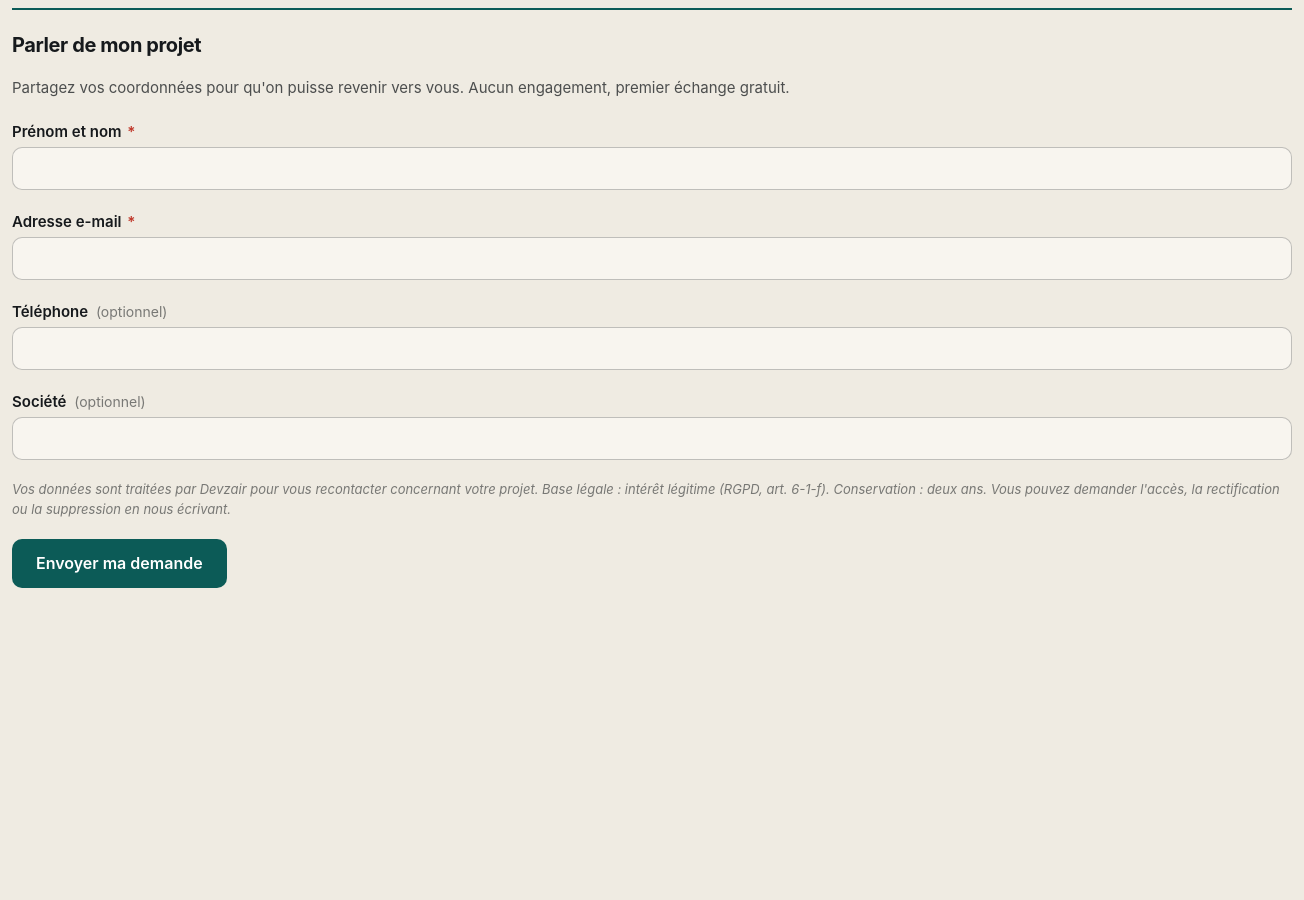
Test case: EstimatorLeadForm — validation › affiche une erreur si nom vide au submit
The image size is (1304, 900).
Type "jean@example.com" into the field named "email" at (652, 259), box x1=12 y1=237 x2=1292 y2=280
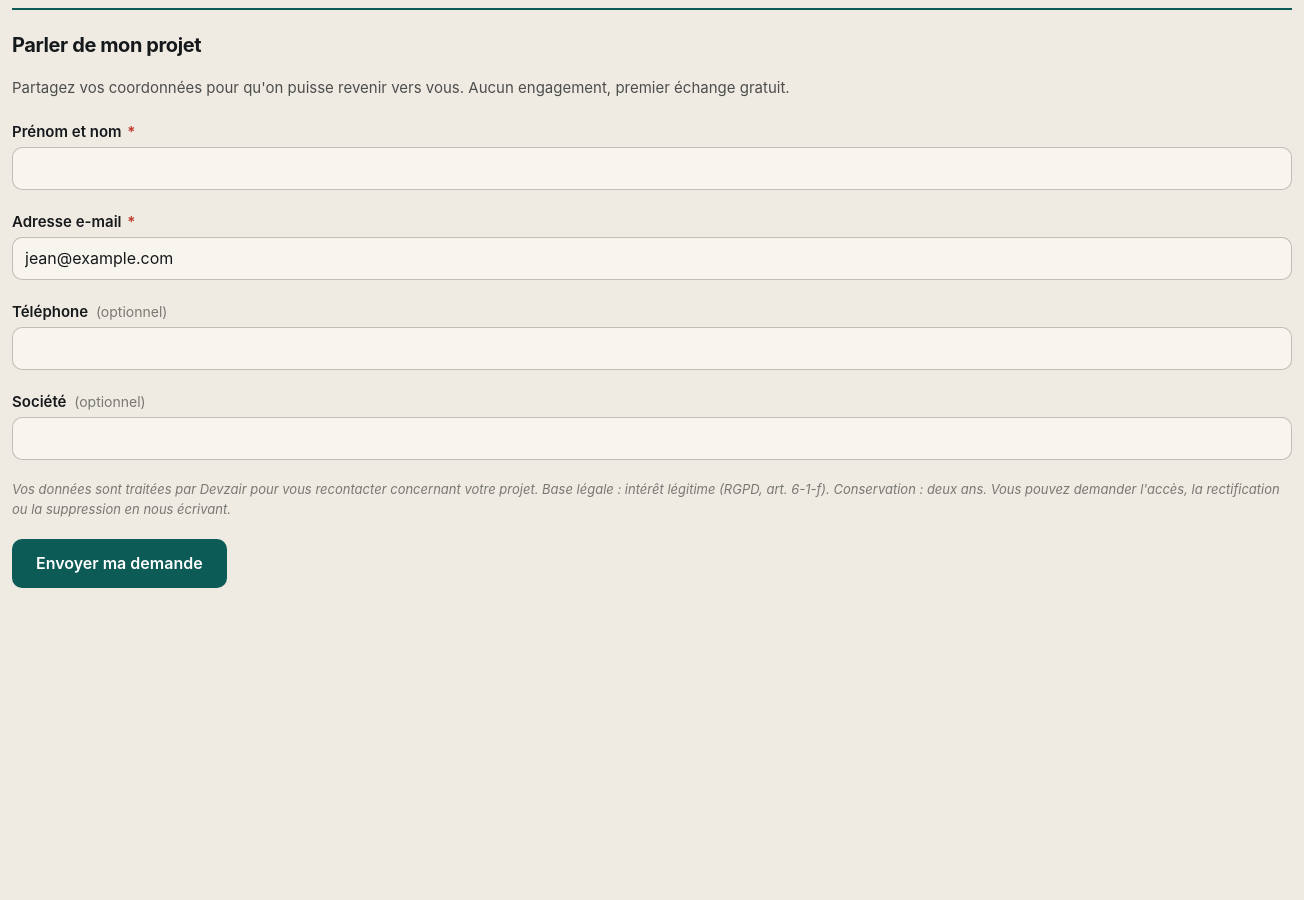
Submit the form
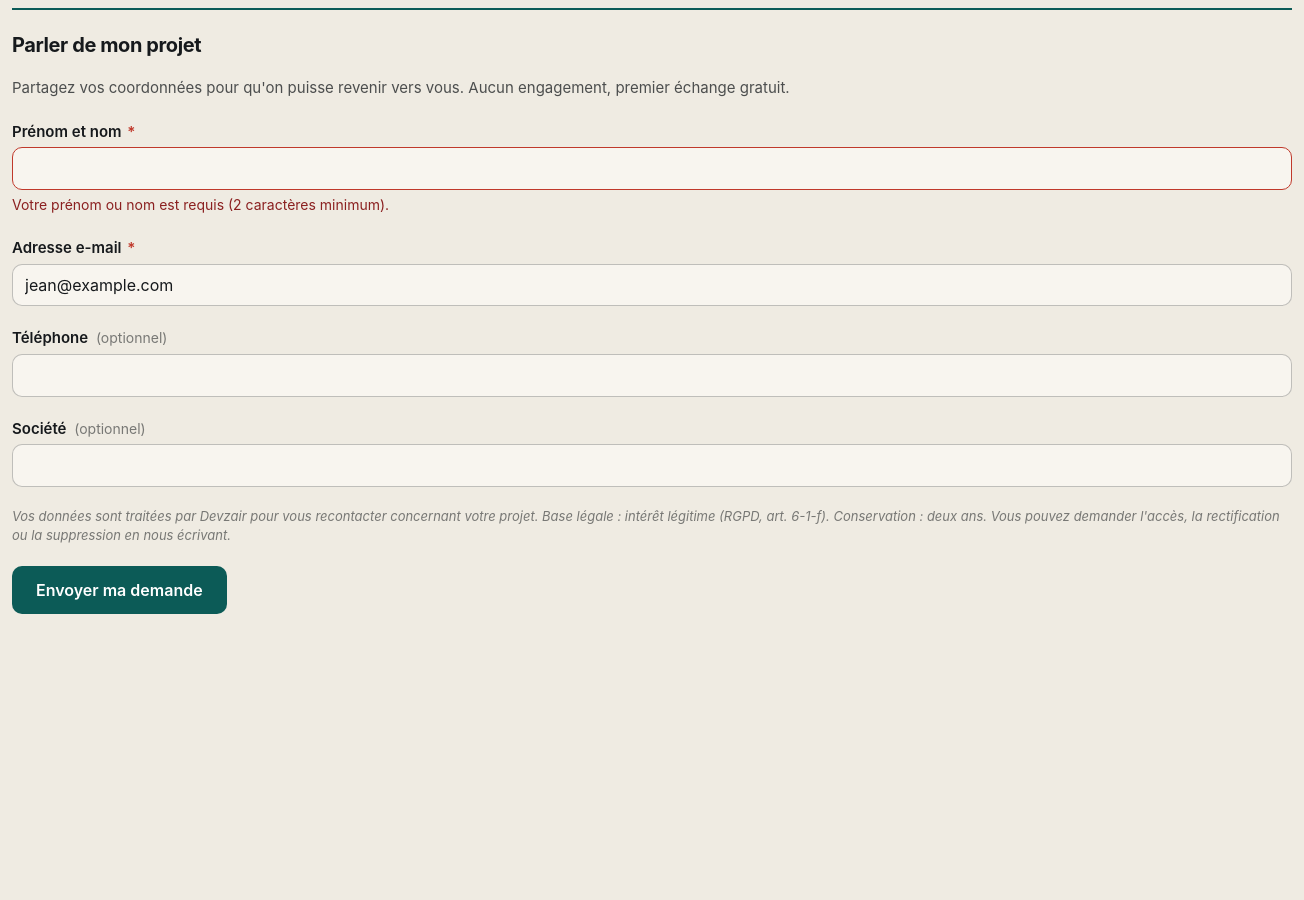
Expected: the field labelled "Prénom et nom *" is shown, x1=12 y1=147 x2=1292 y2=190
Result: the text "requis" is shown at x1=12 y1=196 x2=389 y2=213
